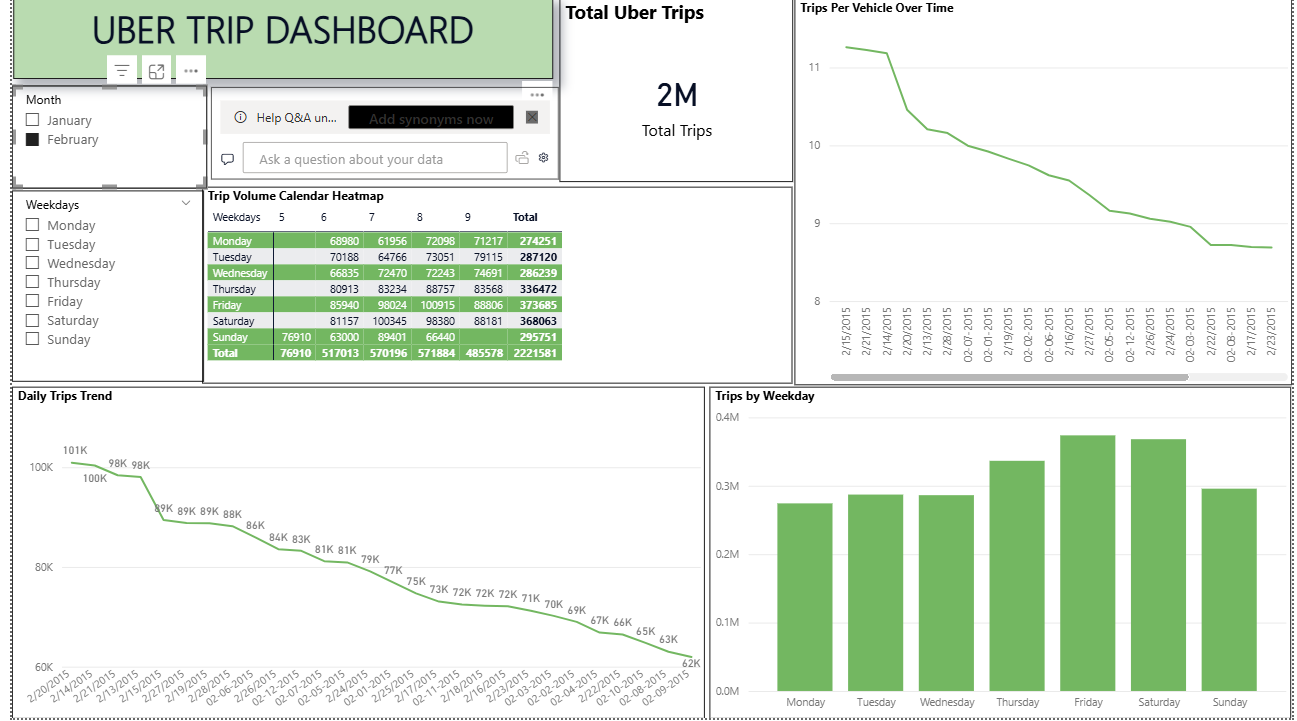

The page's visual inventory and layout, read from the dashboard file:
{"tool":"powerbi","page":{"name":"Page 1","canvas":[1280,720],"ordinal":0},"visuals":[{"type":"card","title":"Total Uber Trips ","fields":{"Values":["Uber-Jan-Feb-FOIL.Total Trips"]},"box":[547.7,0,233.7,184.2],"z":0},{"type":"lineChart","title":"Daily Trips Trend","fields":{"Category":["Uber-Jan-Feb-FOIL.date"],"Y":["Sum(Uber-Jan-Feb-FOIL.trips)"]},"box":[0,388.6,693,332.3],"z":1000},{"type":"clusteredColumnChart","title":"Trips by Weekday","fields":{"Y":["Sum(Uber-Jan-Feb-FOIL.trips)"],"Category":["Uber-Jan-Feb-FOIL.WeekdayName"]},"box":[697.7,388.1,581.4,331.6],"z":2000},{"type":"lineChart","title":"Trips Per Vehicle Over Time","fields":{"Category":["Uber-Jan-Feb-FOIL.date"],"Y":["Uber-Jan-Feb-FOIL.Trips Per Vehicle"]},"box":[782.6,0,497.7,387.4],"z":3000},{"type":"slicer","title":"Month","fields":{"Values":["Uber-Jan-Feb-FOIL.MonthName"]},"box":[0,87.2,195.1,103.3],"z":4000},{"type":"slicer","fields":{"Values":["Uber-Jan-Feb-FOIL.WeekdayName"]},"box":[0,193,192.3,190.9],"z":5000},{"type":"pivotTable","title":"Trip Volume Calendar Heatmap","fields":{"Rows":["Uber-Jan-Feb-FOIL.WeekdayName"],"Values":["Uber-Jan-Feb-FOIL.Total Trips"],"Columns":["Uber-Jan-Feb-FOIL.WeekOfYear"]},"box":[190.2,188.1,590.7,196.5],"z":6000},{"type":"textbox","box":[1.2,0,539.5,81.2],"z":7000},{"type":"qnaVisual","box":[198.8,88.8,347.7,92.6],"z":8000}]}

Visuals, with their boxes on the page's 1280x720 design canvas (x1, y1, x2, y2). These are canvas units, not pixel positions in the 1297x721 screenshot, which may show the page scaled, cropped or inside an application window:
"Total Uber Trips " card: [x1=548, y1=0, x2=781, y2=184]
"Daily Trips Trend" lineChart: [x1=0, y1=389, x2=693, y2=721]
"Trips by Weekday" clusteredColumnChart: [x1=698, y1=388, x2=1279, y2=720]
"Trips Per Vehicle Over Time" lineChart: [x1=783, y1=0, x2=1280, y2=387]
"Month" slicer: [x1=0, y1=87, x2=195, y2=190]
slicer - Uber-Jan-Feb-FOIL.WeekdayName: [x1=0, y1=193, x2=192, y2=384]
"Trip Volume Calendar Heatmap" pivotTable: [x1=190, y1=188, x2=781, y2=385]
textbox: [x1=1, y1=0, x2=541, y2=81]
qnaVisual: [x1=199, y1=89, x2=546, y2=181]
